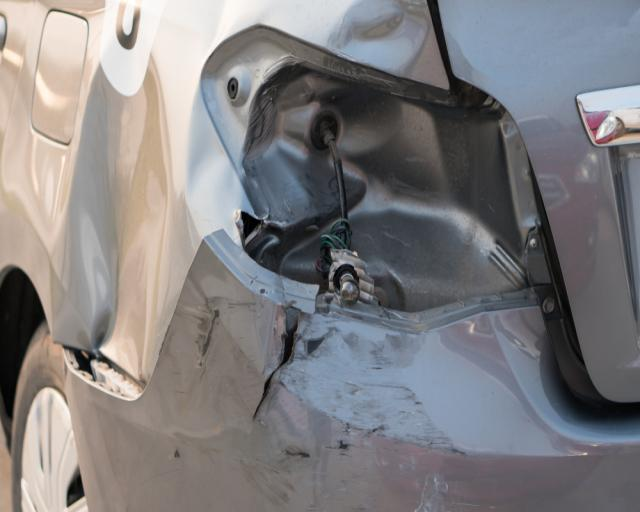crack: (255, 315, 299, 416)
dent: (67, 81, 168, 379), (328, 0, 428, 70)
scratch: (239, 315, 476, 512)
